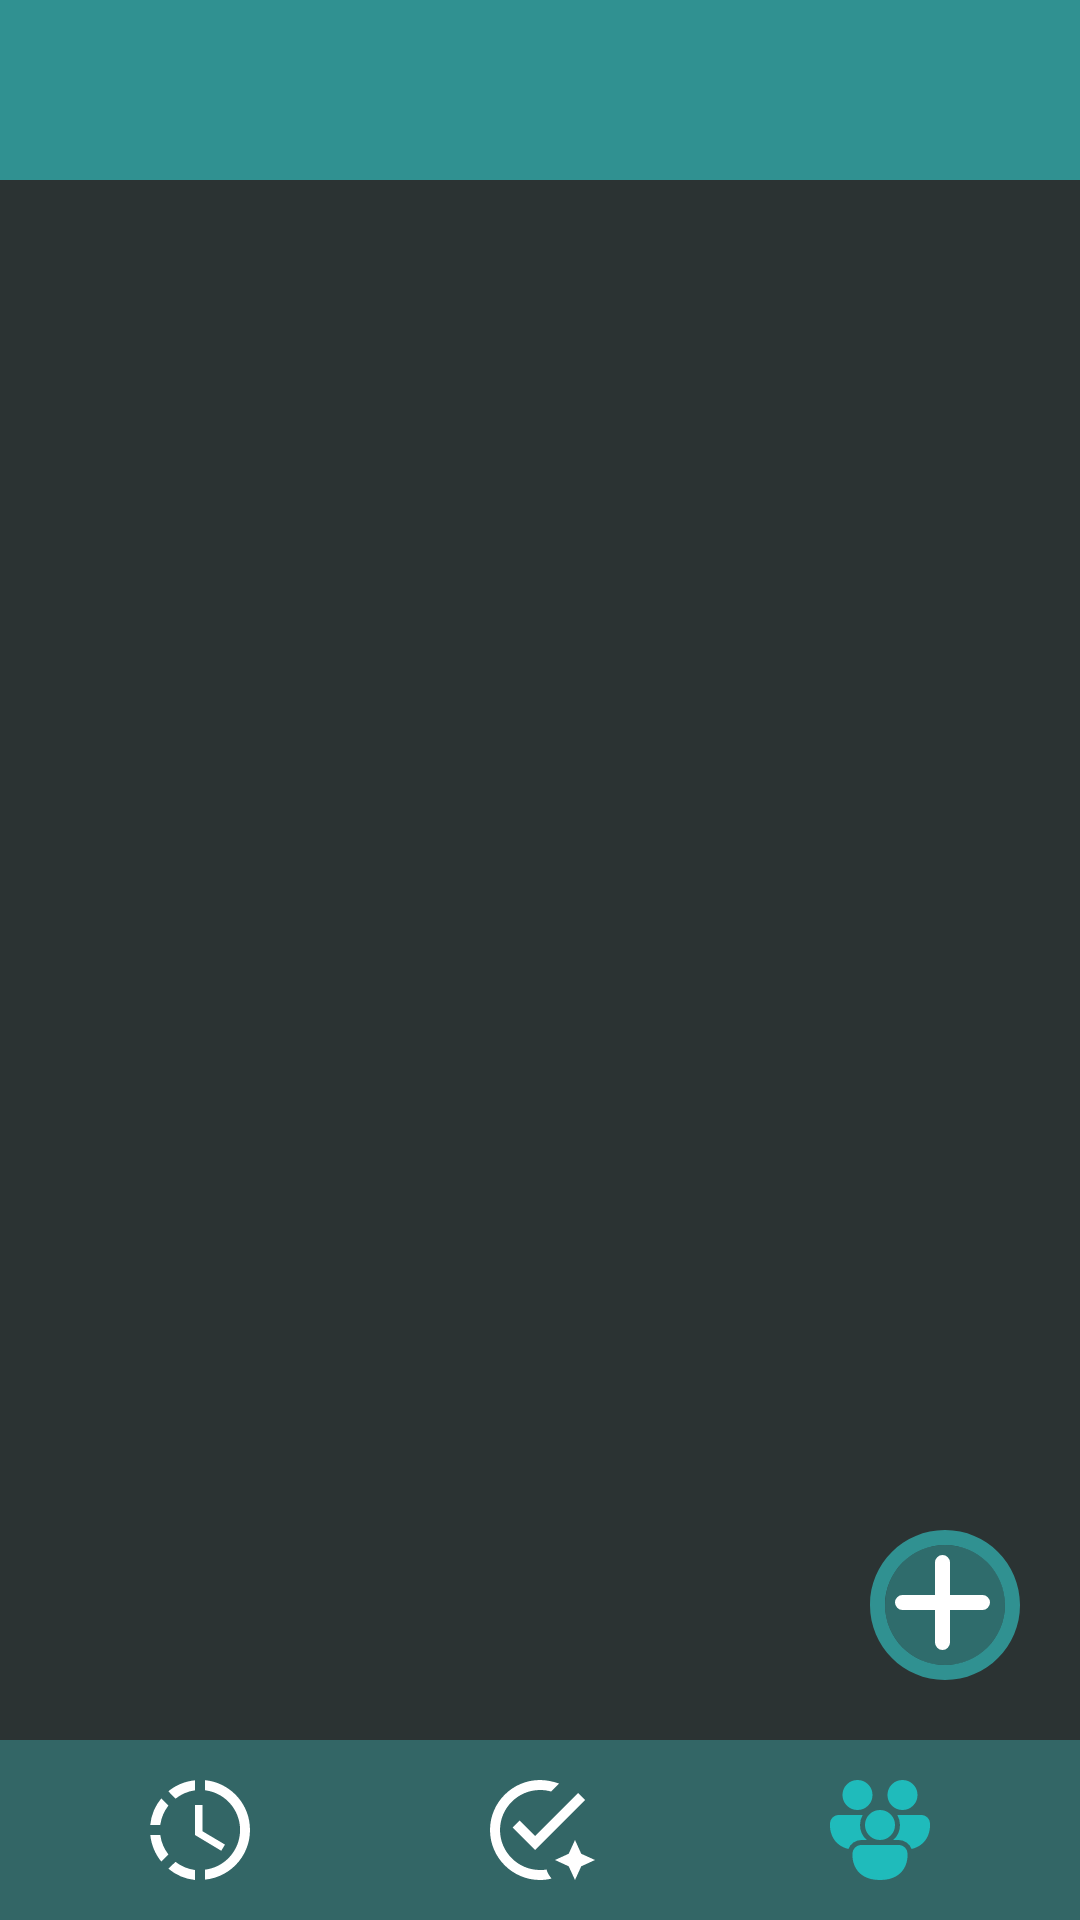

Icon bounding boxes for this 1080px x 1920px phone screenshot, format [x1=x1, y1=y1, x2=x2, y2=y2]:
clock progress: [x1=150, y1=1780, x2=250, y2=1880]
community: [x1=830, y1=1780, x2=930, y2=1880]
task check: [x1=490, y1=1780, x2=595, y2=1880]
